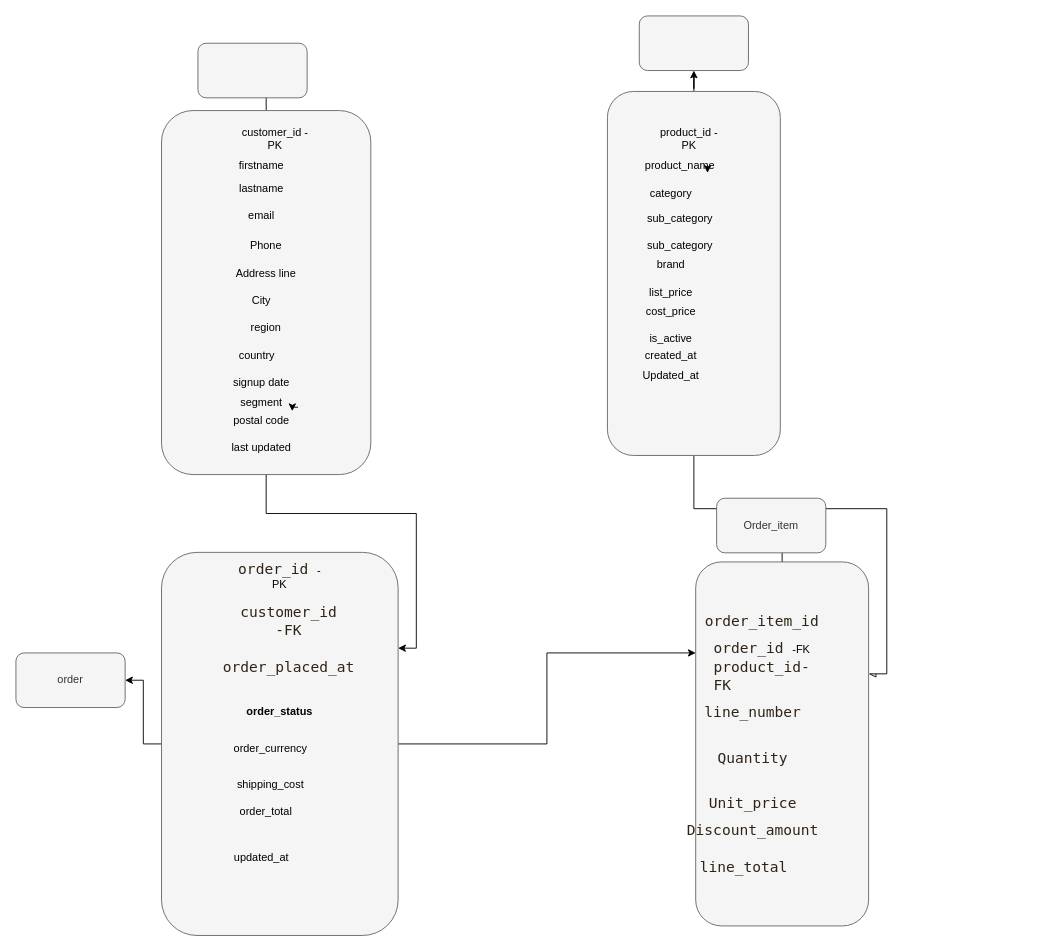
Some shapes in this 1051 by 952 pixel diagram are drawn without their labels. The shapes that lost their labels are listed below. From the top down, each one's centre as x and y in pixels, then its label:
At (x=693, y=43): "Product".
At (x=252, y=70): "Customer".
